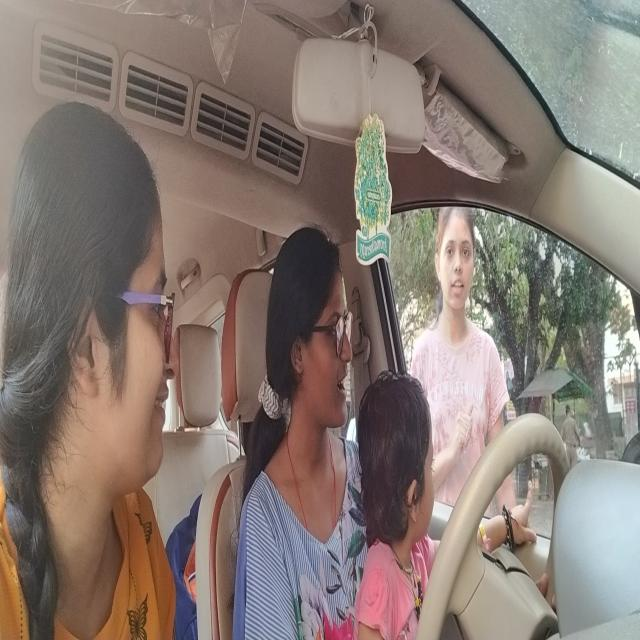child: (358, 362, 440, 560)
person: (9, 104, 180, 505), (266, 218, 355, 436)
